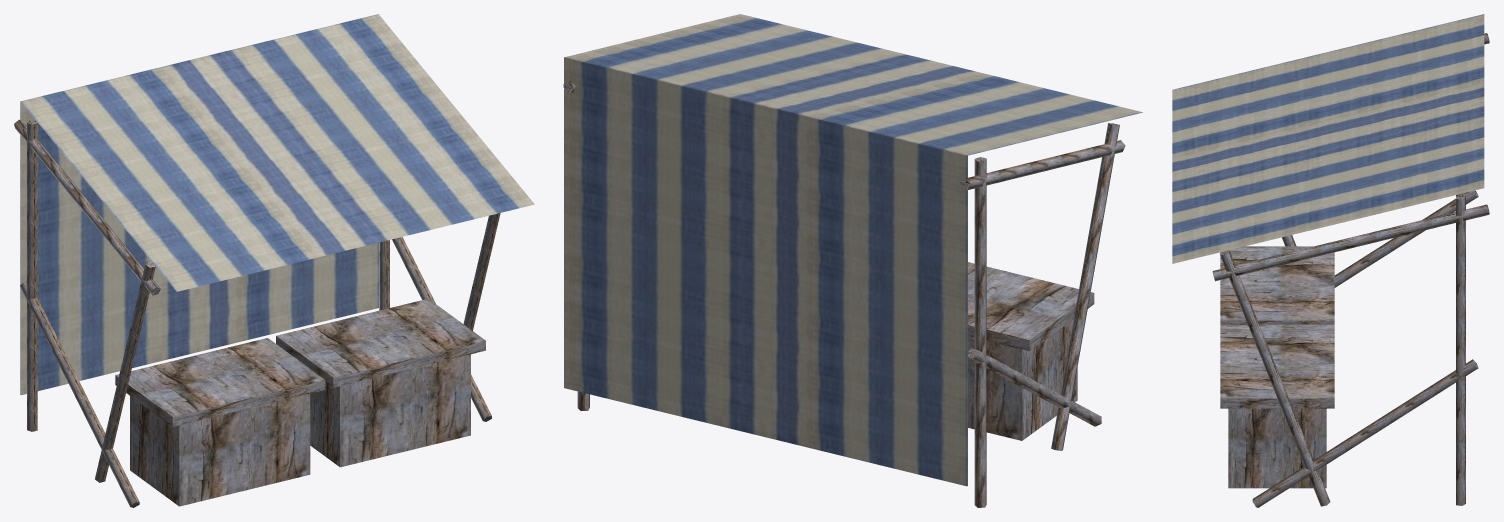
File: MarketStall.FBX
3 renders of one model, left to right at view 1: azimuth 30°, elevation 25°; view 2: azimuth 150°, elevation 25°; view 3: azimuth 270°, elevation 25°, orthographic. The views are drawn at different scales.
Visible parts, largest first — view 1: Plane002, Plane003, ww003, ww001, ww, ww002, Cylinder009, Cylinder008, Cylinder006, Cylinder007, Cylinder003, Cylinder005 (+1 smaller); view 2: Plane001, Plane002, ww003, ww002, Cylinder009, Cylinder006, Cylinder007, Cylinder008, Plane003; view 3: Plane002, ww, ww002, ww001, Cylinder004, Cylinder001, Cylinder003, Cylinder005, Cylinder008.
Boxes of the visible parts, x1,y1,x2,y2 form: Plane002: (20,14,534,291); Plane003: (21,14,378,395); ww003: (130,393,310,506); ww001: (310,354,470,467); ww: (276,298,485,387); ww002: (115,338,325,426); Cylinder009: (27,120,37,431); Cylinder008: (20,281,139,507); Cylinder006: (95,260,155,482); Cylinder007: (14,119,160,295); Cylinder003: (463,213,500,330); Cylinder005: (392,237,491,421); Plane001: (564,57,967,486); Plane002: (564,14,1142,155); ww003: (968,319,1077,440); ww002: (968,262,1094,351); Cylinder009: (974,157,986,507); Cylinder006: (1051,123,1119,450); Cylinder007: (960,140,1125,190); Cylinder008: (968,348,1101,426); Plane003: (565,57,967,485); Plane002: (1172,14,1484,263); ww: (1220,324,1334,408); ww002: (1220,246,1334,324); ww001: (1228,408,1326,488); Cylinder004: (1212,204,1489,281); Cylinder001: (1456,195,1465,505); Cylinder003: (1220,250,1330,506); Cylinder005: (1252,359,1478,507); Cylinder008: (1334,190,1478,287).
Bounding box in the file's own units: 61.76 × 52.65 × 46.9.
